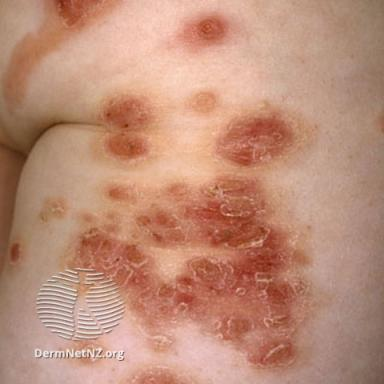Impetigo: (59, 172, 319, 375), (4, 0, 122, 110), (217, 113, 294, 166), (101, 95, 153, 129), (104, 133, 151, 160), (129, 364, 187, 384), (37, 192, 69, 225), (189, 17, 225, 41), (189, 91, 217, 113), (7, 240, 23, 267)
